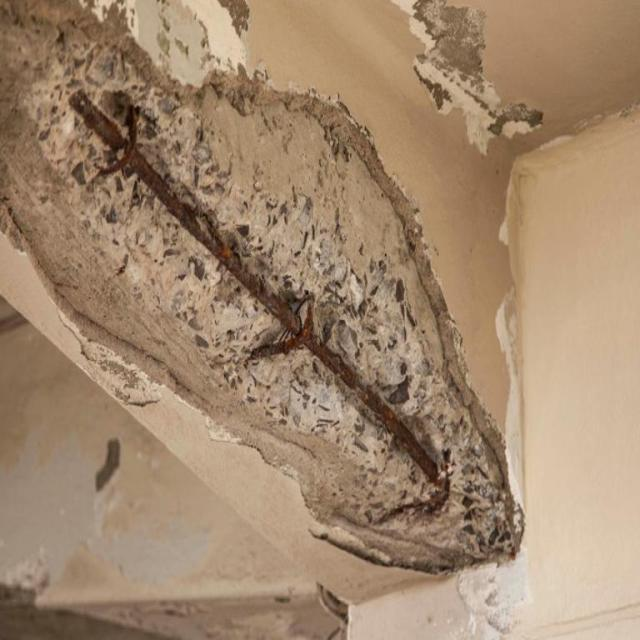spalling: (0, 0, 531, 578), (384, 0, 550, 158), (312, 577, 352, 639), (92, 434, 124, 495)
